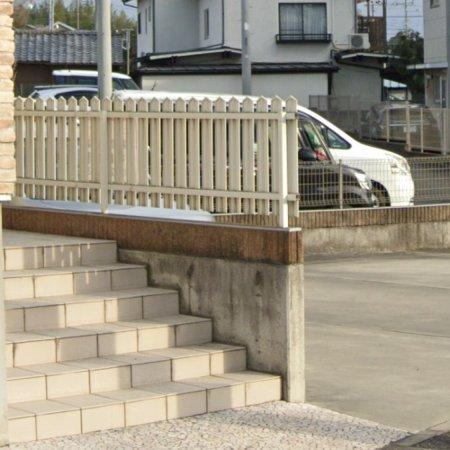stairs: (4, 231, 282, 444)
